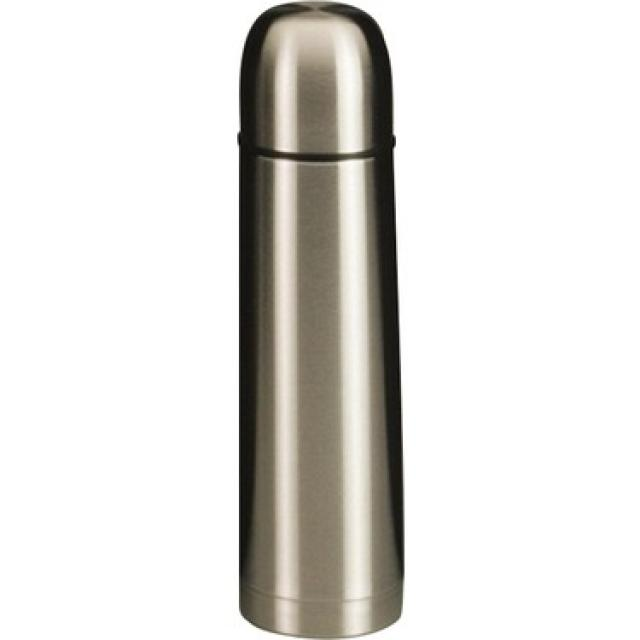Termos: (235, 1, 408, 640)
